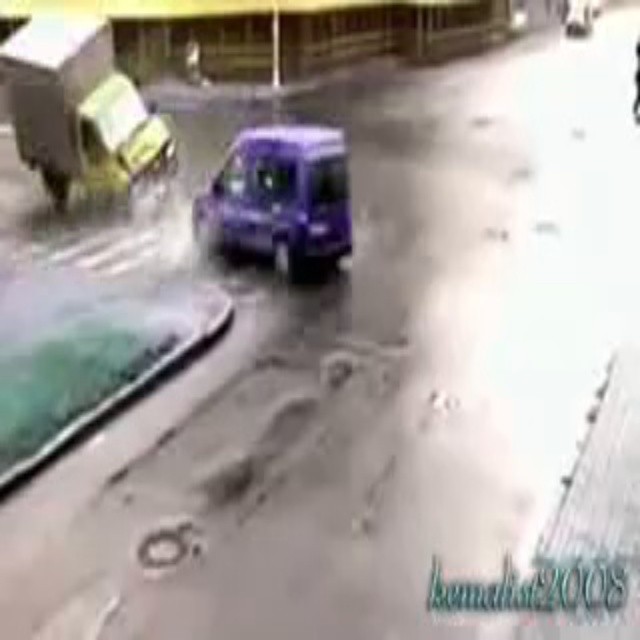acc: (31, 82, 253, 276)
